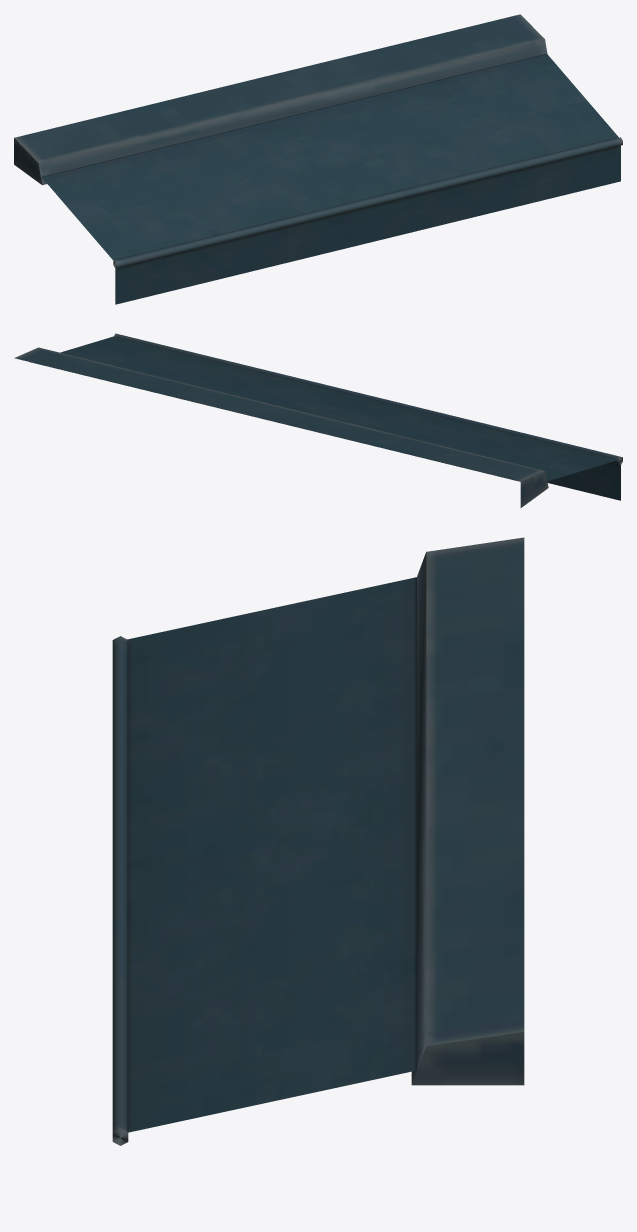
3 renders of one model, top to bottom at view 1: azimuth 30°, elevation 25°; view 2: azimuth 150°, elevation 25°; view 3: azimuth 270°, elevation 25°, orthographic. The views are drawn at different scales.
Visible parts, largest first — view 1: um_t1_ar104c_model_t1_ar104c_modelShape; view 2: um_t1_ar104c_model_t1_ar104c_modelShape; view 3: um_t1_ar104c_model_t1_ar104c_modelShape.
Boxes of the visible parts, x1,y1,x2,y2 form: um_t1_ar104c_model_t1_ar104c_modelShape: (14, 14, 622, 304); um_t1_ar104c_model_t1_ar104c_modelShape: (14, 333, 622, 507); um_t1_ar104c_model_t1_ar104c_modelShape: (112, 537, 524, 1145).
Size of the model in its own units: 5.55 by 0.9739 by 1.95.
1 material, 1 textured.
